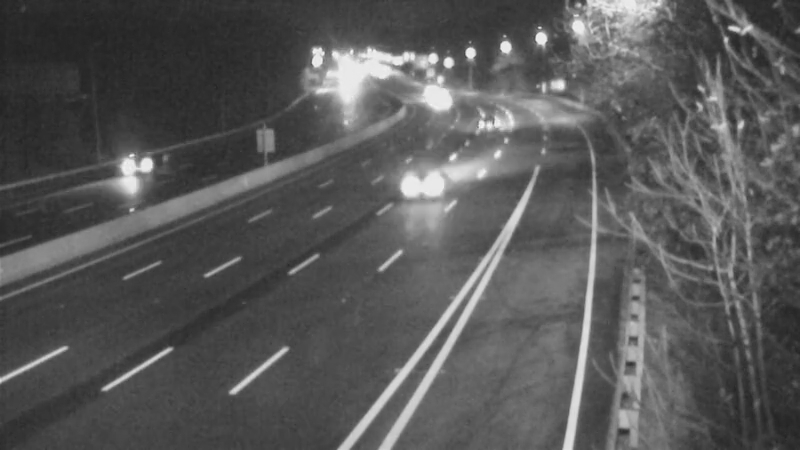vehicle: (382, 147, 462, 227), (103, 131, 183, 211), (404, 64, 454, 114), (416, 69, 466, 119), (414, 78, 464, 128), (458, 99, 508, 149)
